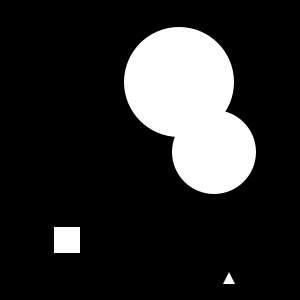circle: (54, 227, 80, 253)
rectangle: (124, 27, 234, 137), (172, 110, 256, 194)
triangle: (223, 272, 235, 284)
